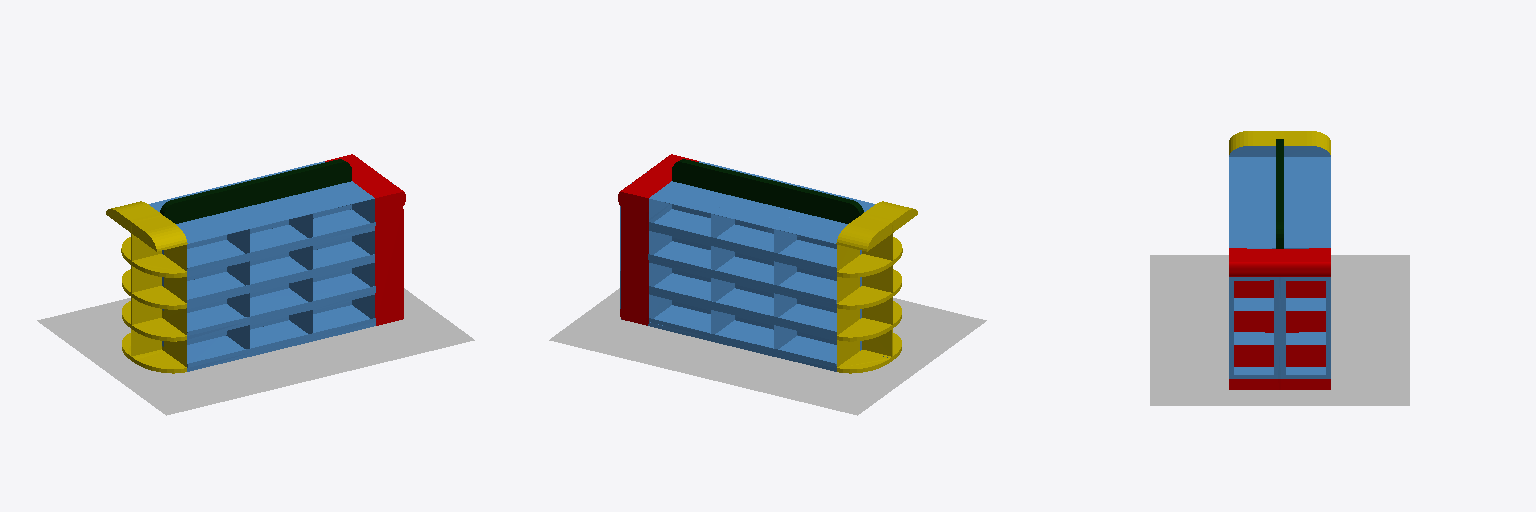
File: Armazon13ColorVariadoConSuelo.obj
The picture shows the model from 3 angles: view 1: azimuth 30°, elevation 25°; view 2: azimuth 150°, elevation 25°; view 3: azimuth 270°, elevation 25°; orthographic projection.
Parts seen in each view (by area): view 1: Plane, Plane.001; view 2: Plane, Plane.001; view 3: Plane, Plane.001.
Part boxes in pixels (x1,y1,x2,y2): Plane: (106,154,405,373); Plane.001: (37,288,474,415); Plane: (618,154,917,373); Plane.001: (549,288,986,415); Plane: (1229,131,1330,389); Plane.001: (1150,255,1409,405).
Bounding box in the file's own units: 30.42 × 14.04 × 22.12.